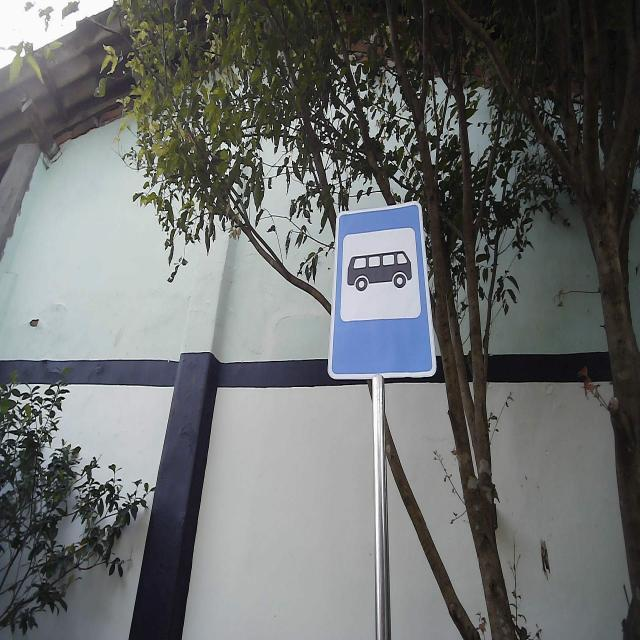bus_stop: (327, 199, 438, 382)
